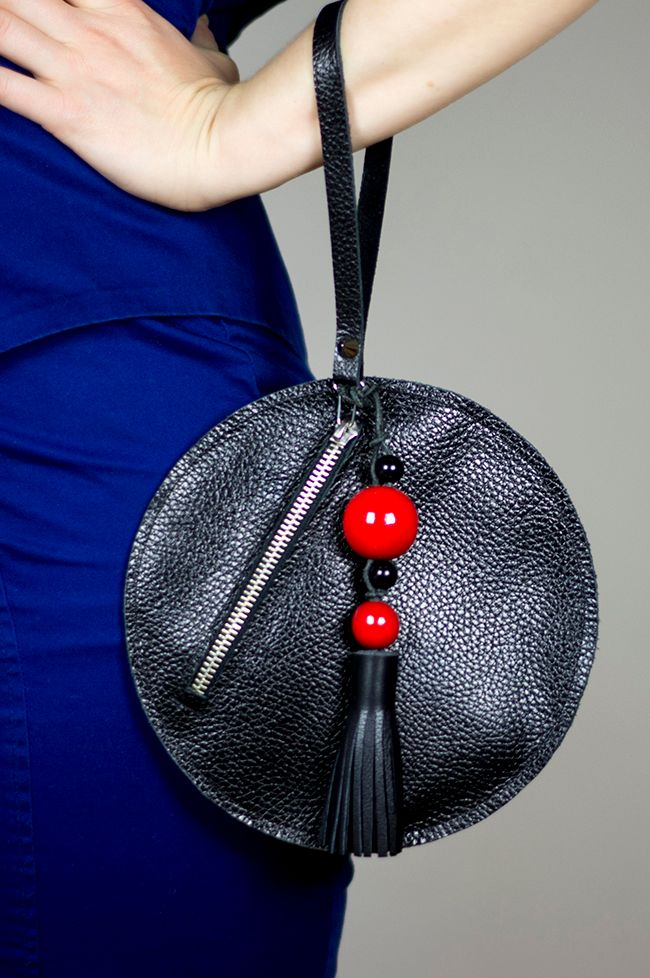cuero: (120, 2, 602, 862)
